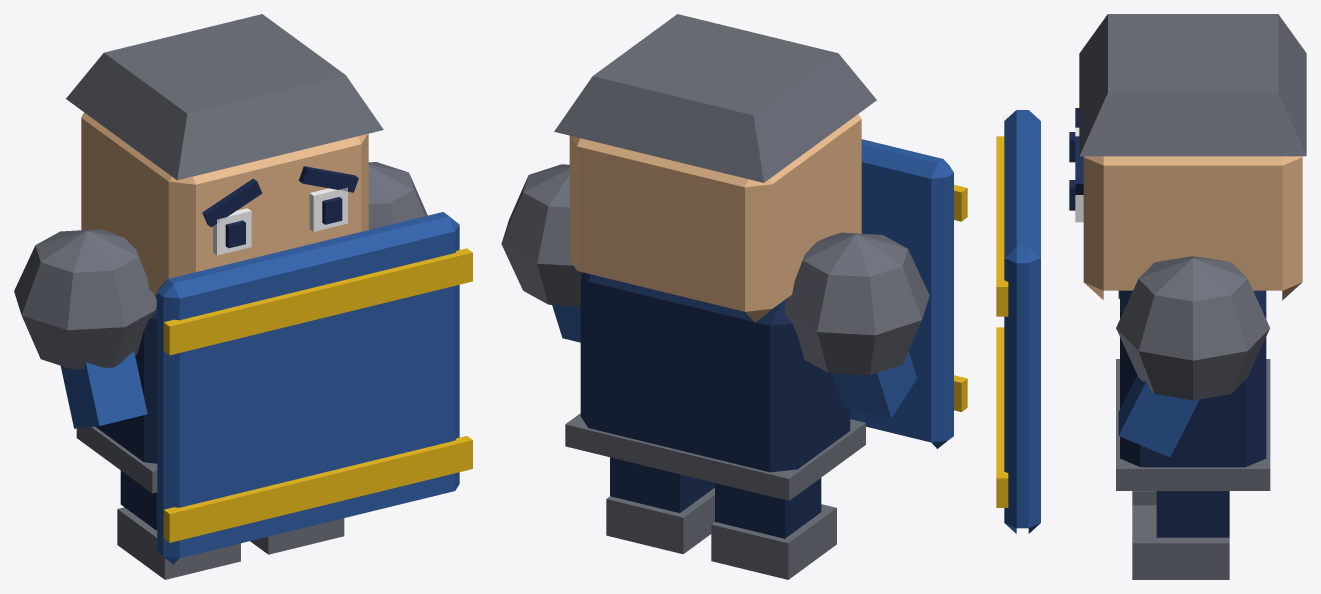
The model's file is brute_r13.glb.
The picture shows the model from 3 angles, left to right: view 1: azimuth 30°, elevation 25°; view 2: azimuth 150°, elevation 25°; view 3: azimuth 270°, elevation 25°; orthographic projection. The views are drawn at different scales.
Parts seen in each view (by area): view 1: brute_r13_mesh; view 2: brute_r13_mesh; view 3: brute_r13_mesh.
Boxes of the visible parts, left/top/right/bottom form: brute_r13_mesh: left=14, top=14, right=472, bottom=579; brute_r13_mesh: left=501, top=14, right=967, bottom=579; brute_r13_mesh: left=996, top=14, right=1306, bottom=579.
Bounding box in the file's own units: 1.98 × 2.2 × 1.28.
1 material, 1 textured.
